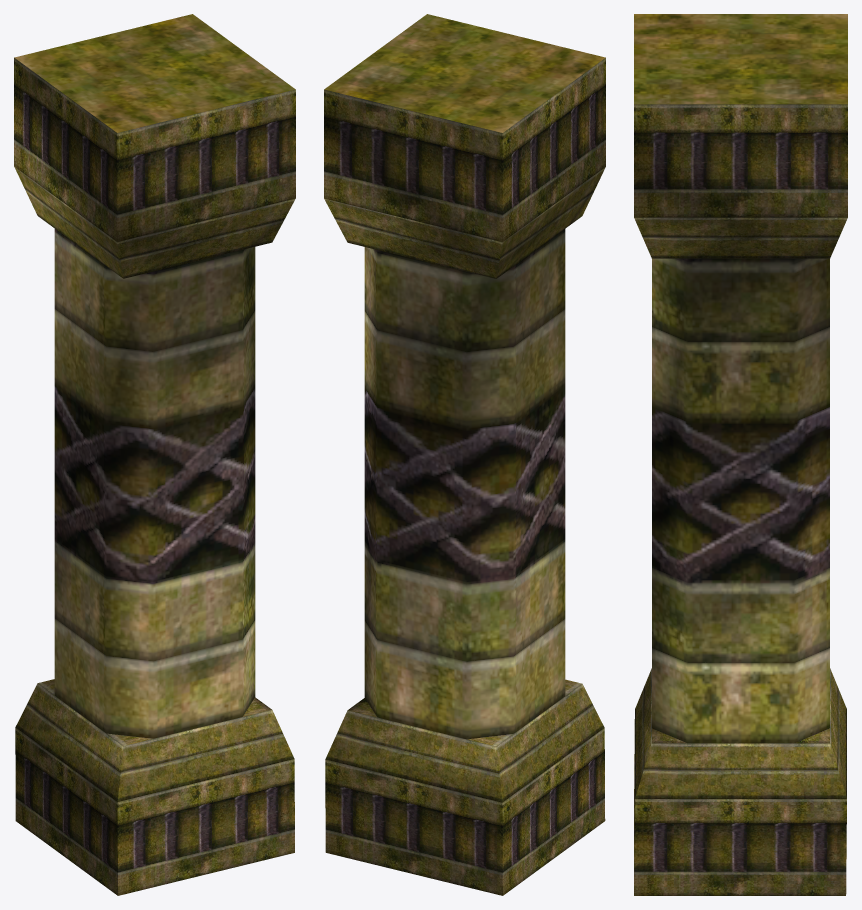
Rendered from OVERHILL_A_01_OBJECT196.fbx.
The picture shows the model from 3 angles, left to right: view 1: azimuth 30°, elevation 25°; view 2: azimuth 150°, elevation 25°; view 3: azimuth 270°, elevation 25°; orthographic projection. The views are drawn at different scales.
Parts seen in each view (by area): view 1: OVERHILL_A_01_OBJECT196; view 2: OVERHILL_A_01_OBJECT196; view 3: OVERHILL_A_01_OBJECT196.
Part boxes in pixels (<box>): OVERHILL_A_01_OBJECT196: <box>14,14,295,895</box>; OVERHILL_A_01_OBJECT196: <box>324,14,605,895</box>; OVERHILL_A_01_OBJECT196: <box>634,14,847,895</box>.
Bounding box in the file's own units: 18045 × 73684 × 18045.
Materials: 5 (5 with a texture image).
